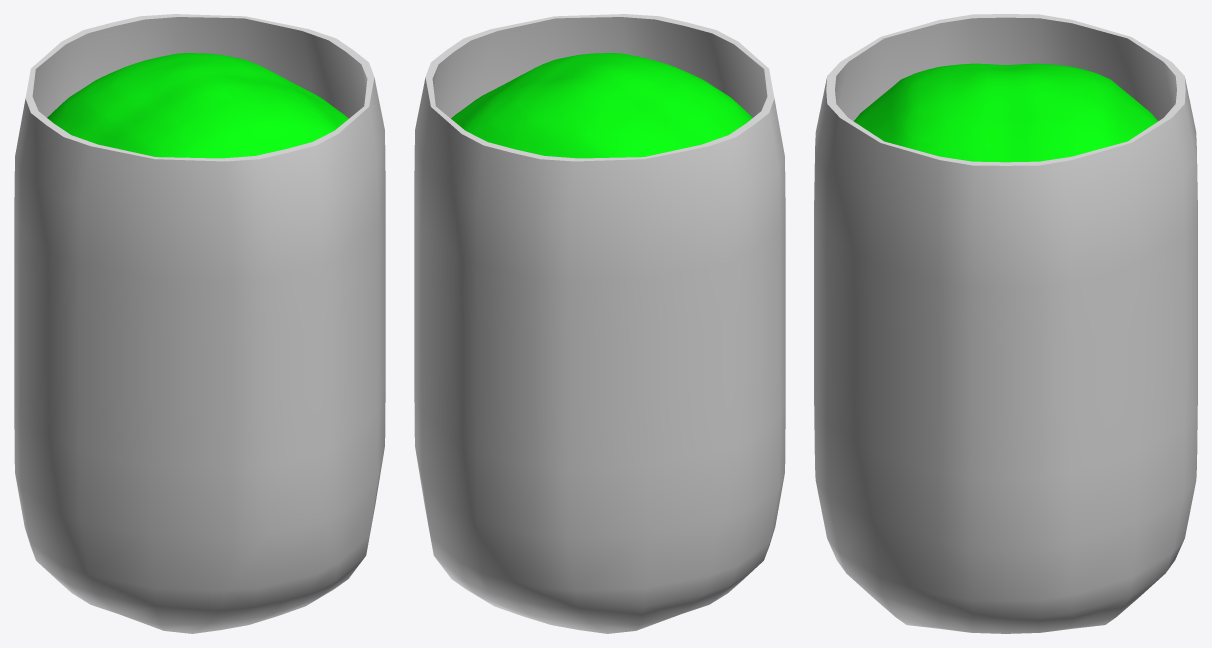
Rendered from glass_a-fill.fbx.
3 views of the same model, side by side, from view 1: azimuth 30°, elevation 25°; view 2: azimuth 150°, elevation 25°; view 3: azimuth 270°, elevation 25° (orthographic).
Parts seen in each view (by area): view 1: glass.003; view 2: glass.003; view 3: glass.003.
Boxes of the visible parts, x1,y1,x2,y2 form: glass.003: (14,14,385,633); glass.003: (414,14,785,633); glass.003: (814,14,1197,633).
Size of the model in its own units: 10.38 by 15.81 by 10.38.
